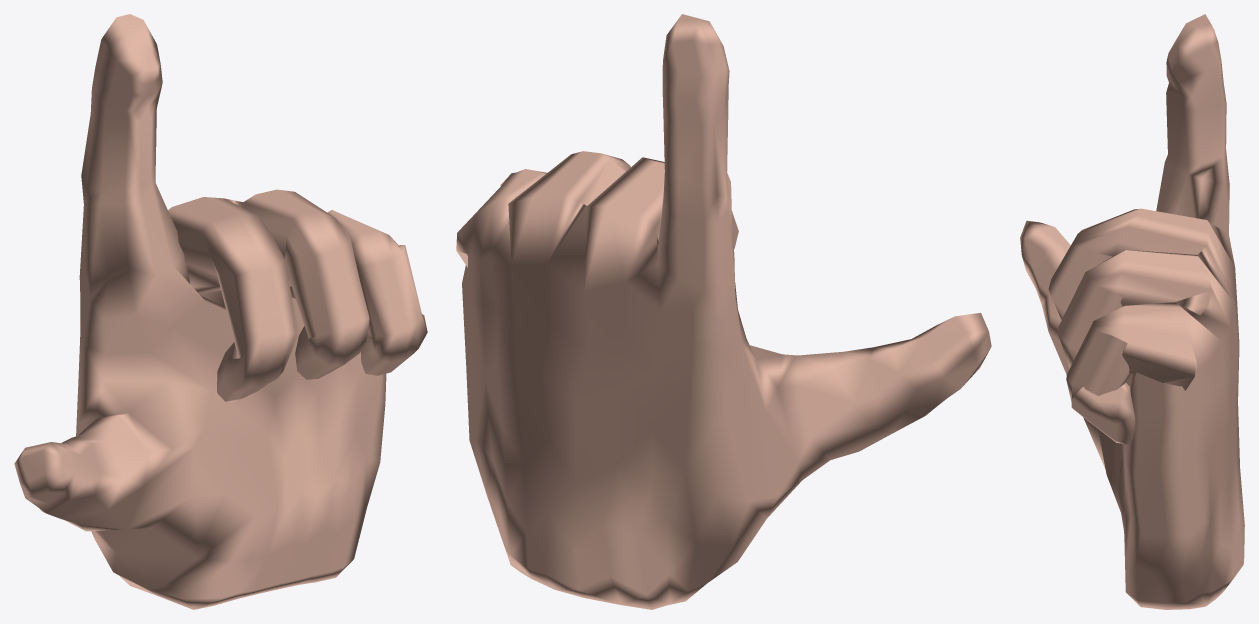
Rendered from MAO_L.obj.
3 renders of one model, left to right at view 1: azimuth 30°, elevation 25°; view 2: azimuth 150°, elevation 25°; view 3: azimuth 270°, elevation 25°, orthographic. The views are drawn at different scales.
Parts seen in each view (by area): view 1: mao_dir polySurface1; view 2: mao_dir polySurface1; view 3: mao_dir polySurface1.
Part boxes in pixels (x1,y1,x2,y2): mao_dir polySurface1: (14, 14, 427, 609); mao_dir polySurface1: (456, 14, 991, 609); mao_dir polySurface1: (1020, 14, 1244, 609).
Size of the model in its own units: 178 by 227 by 89.88.
